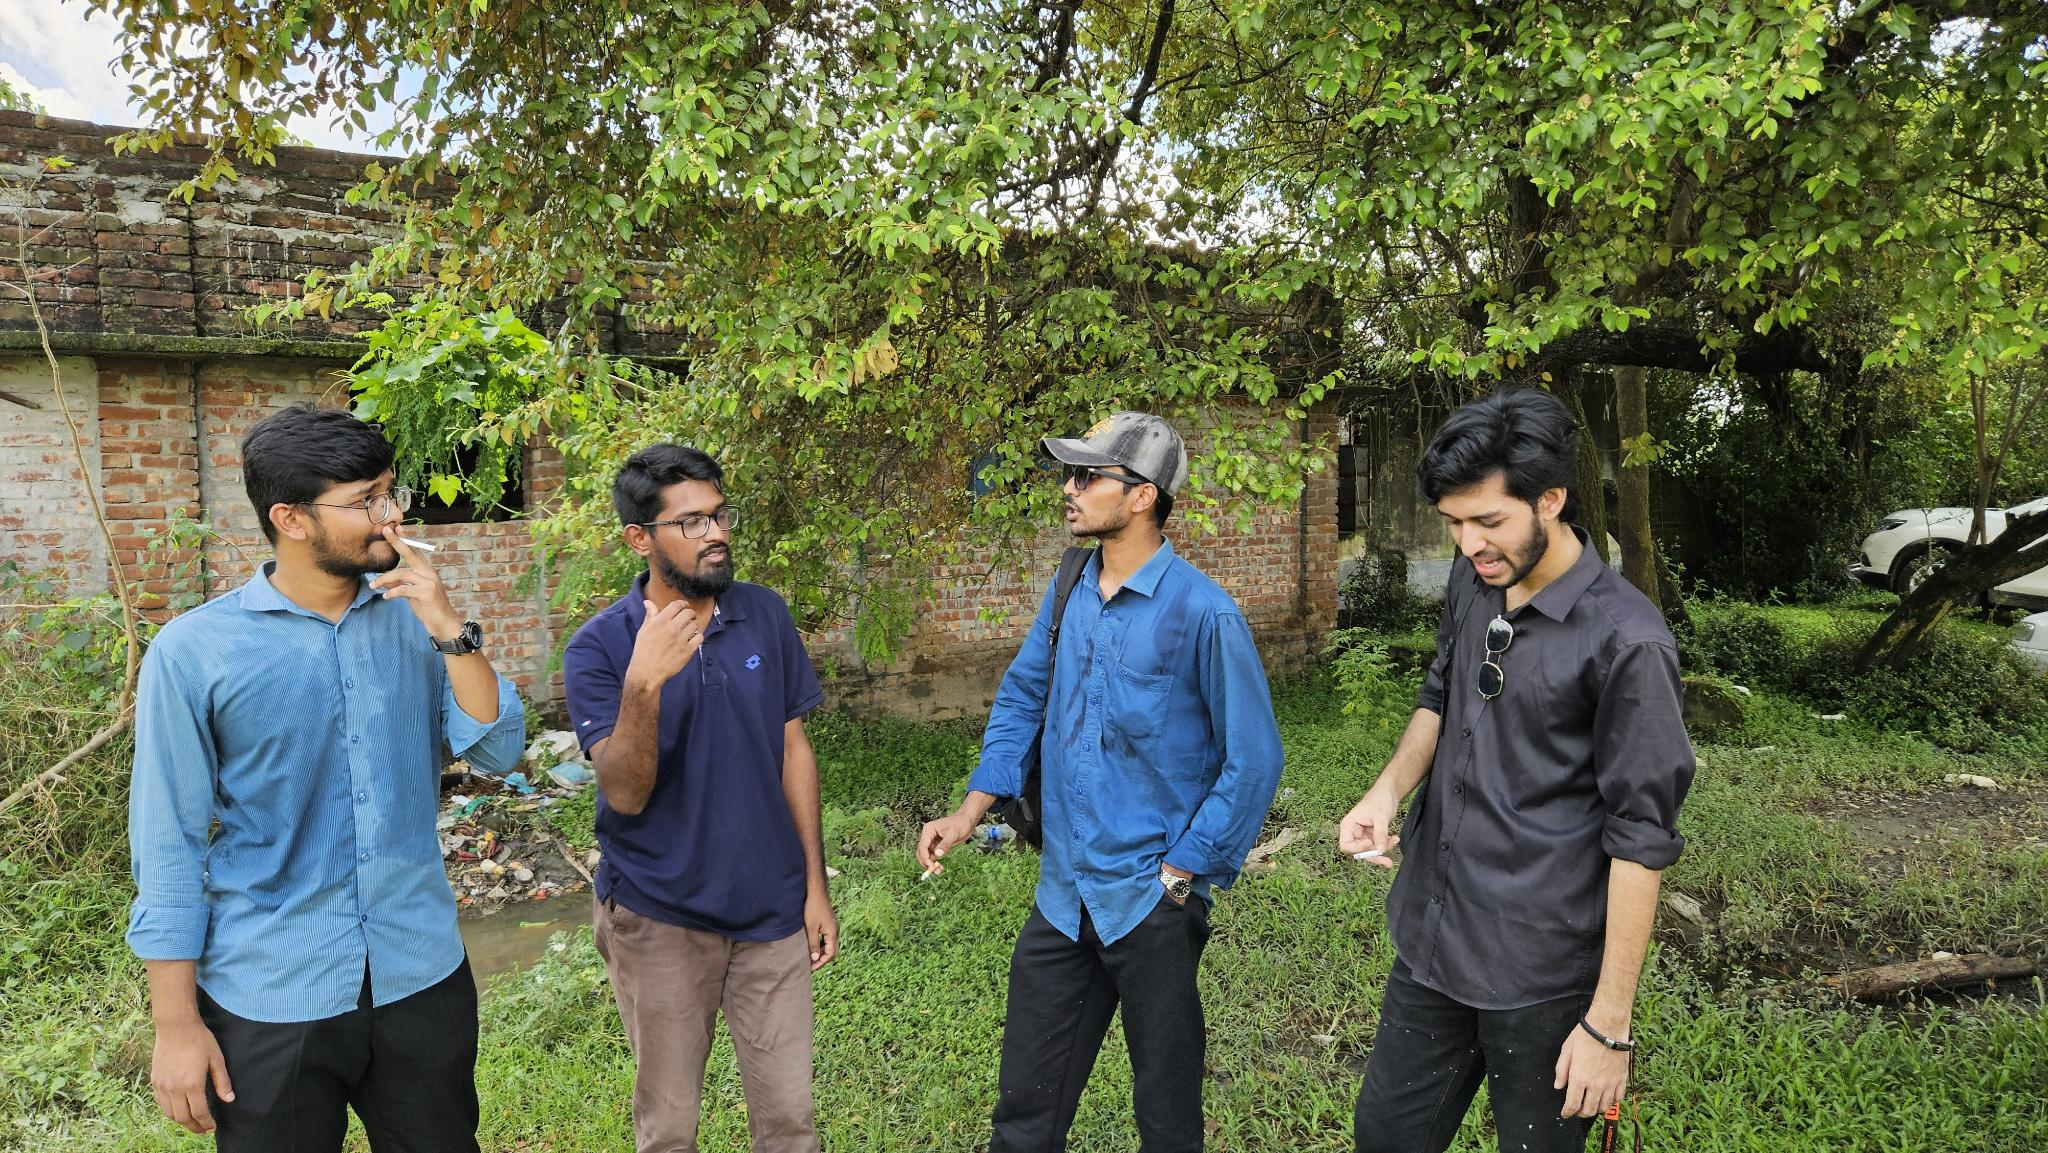cigarette: (397, 534, 440, 555), (919, 859, 941, 883), (1352, 848, 1384, 862)
nonSmoker: (563, 444, 841, 1153)
smoker: (122, 409, 527, 1153), (1339, 382, 1698, 1153), (917, 409, 1279, 1153)
